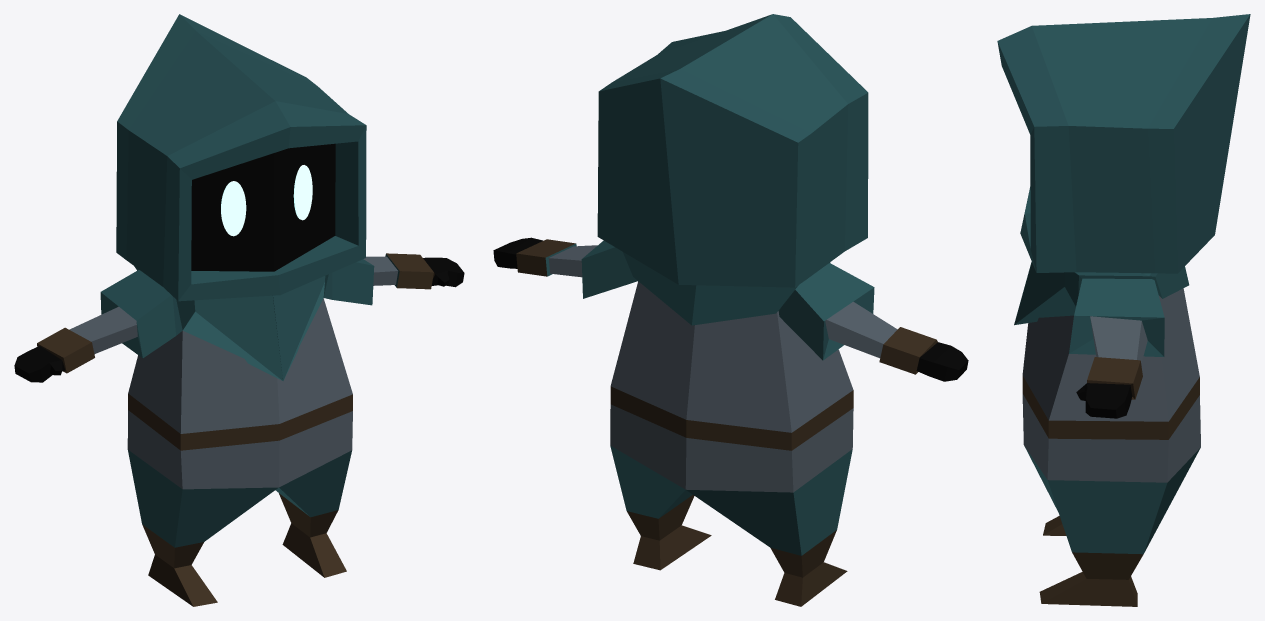
Rendered from MiniFigureTpose2.fbx.
3 views of the same model, side by side, from view 1: azimuth 30°, elevation 25°; view 2: azimuth 150°, elevation 25°; view 3: azimuth 270°, elevation 25° (orthographic). The views are drawn at different scales.
Parts seen in each view (by area): view 1: Cube.001, Eyes.001; view 2: Cube.001; view 3: Cube.001.
Boxes of the visible parts, <box> form: Cube.001: <box>14,14,464,606</box>; Eyes.001: <box>221,165,312,236</box>; Cube.001: <box>493,14,968,606</box>; Cube.001: <box>997,14,1250,606</box>.
Bounding box in the file's own units: 485 × 536 × 223.
